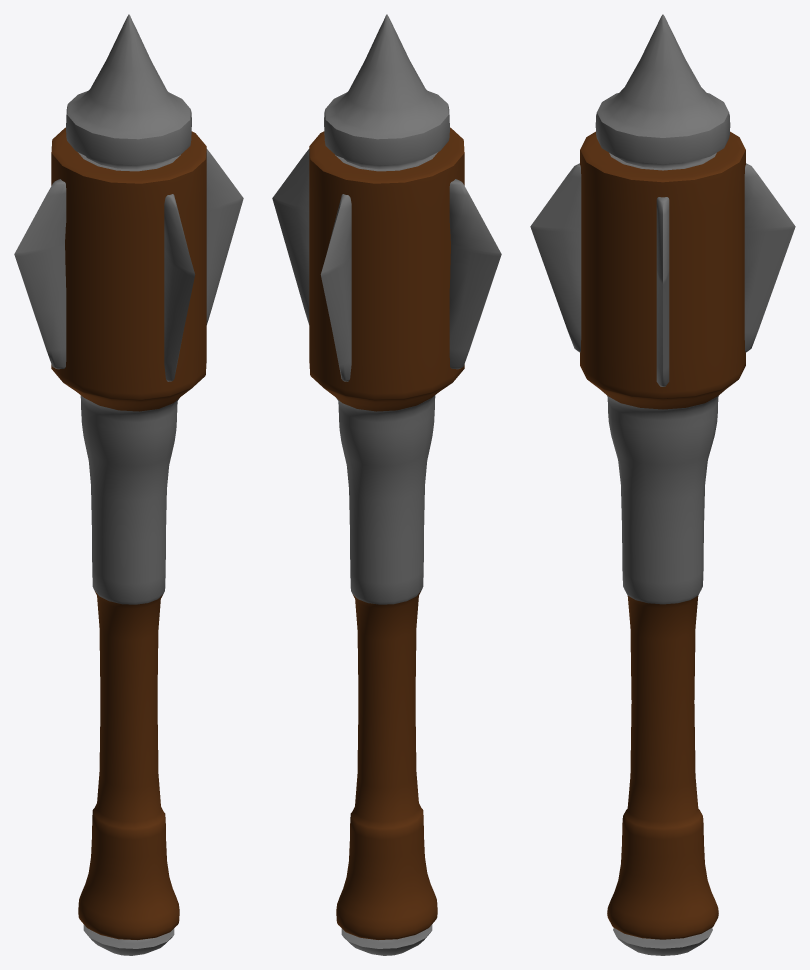
File: Mace.fbx
The picture shows the model from 3 angles, left to right: view 1: azimuth 30°, elevation 25°; view 2: azimuth 150°, elevation 25°; view 3: azimuth 270°, elevation 25°; orthographic projection.
Visible parts, largest first — view 1: Cube; view 2: Cube; view 3: Cube.
Part boxes in pixels (bbox=[...]): Cube: bbox=[14, 14, 243, 955]; Cube: bbox=[272, 14, 501, 955]; Cube: bbox=[530, 14, 795, 955].
Bounding box in the file's own units: 47.73 × 185 × 47.73.
